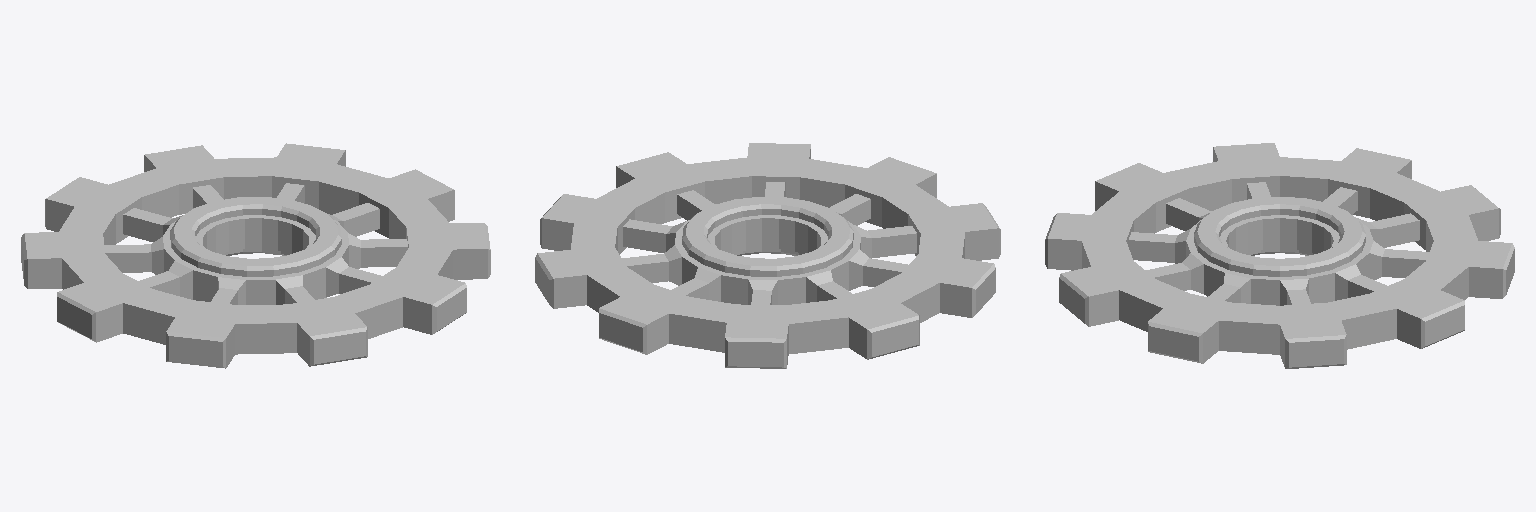
File: gear.obj
3 views of the same model, side by side, from view 1: azimuth 30°, elevation 25°; view 2: azimuth 150°, elevation 25°; view 3: azimuth 270°, elevation 25° (orthographic).
Visible parts, largest first — view 1: FBXASC237FBXASC138FBXASC156FBXASC235FBXASC184FBXASC140_2; view 2: FBXASC237FBXASC138FBXASC156FBXASC235FBXASC184FBXASC140_2; view 3: FBXASC237FBXASC138FBXASC156FBXASC235FBXASC184FBXASC140_2.
Part boxes in pixels (left/top/right/bottom): FBXASC237FBXASC138FBXASC156FBXASC235FBXASC184FBXASC140_2: left=21, top=143, right=490, bottom=368; FBXASC237FBXASC138FBXASC156FBXASC235FBXASC184FBXASC140_2: left=535, top=143, right=1000, bottom=368; FBXASC237FBXASC138FBXASC156FBXASC235FBXASC184FBXASC140_2: left=1045, top=143, right=1514, bottom=368.
Size of the model in its own units: 10.51 by 1.21 by 10.51.